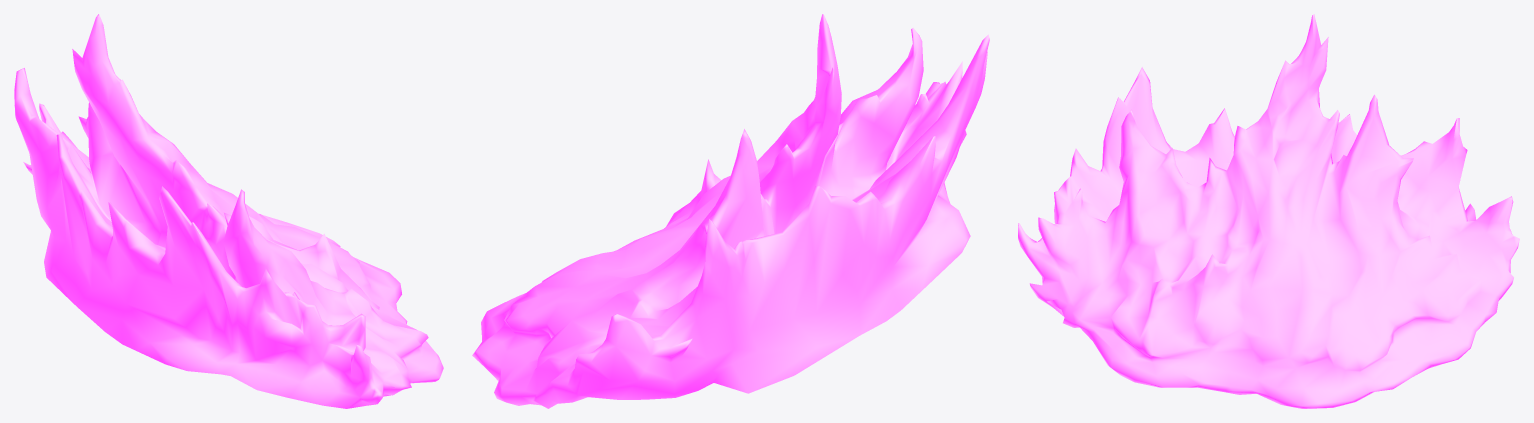
Rendered from sm1641_spike.fbx.
3 renders of one model, left to right at view 1: azimuth 30°, elevation 25°; view 2: azimuth 150°, elevation 25°; view 3: azimuth 270°, elevation 25°, orthographic. The views are drawn at different scales.
Parts seen in each view (by area): view 1: LOD_1_Group_0_Sub_1__spike; view 2: LOD_1_Group_0_Sub_1__spike; view 3: LOD_1_Group_0_Sub_1__spike.
Boxes of the visible parts, x1,y1,x2,y2 form: LOD_1_Group_0_Sub_1__spike: [14, 14, 443, 408]; LOD_1_Group_0_Sub_1__spike: [472, 14, 989, 408]; LOD_1_Group_0_Sub_1__spike: [1018, 14, 1519, 408].
Size of the model in its own units: 331 by 319 by 517.
